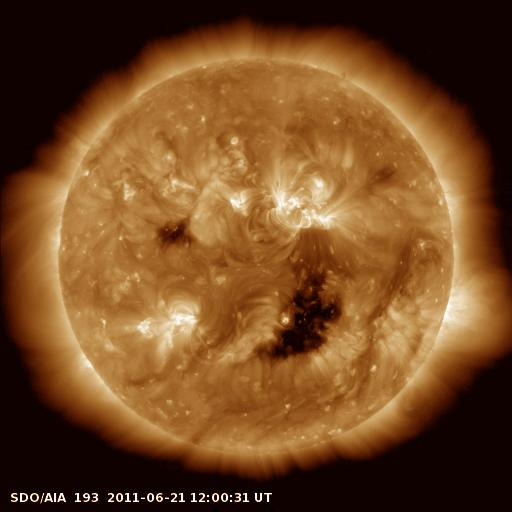coronal_hole: (252, 270, 350, 364), (153, 212, 197, 252)
